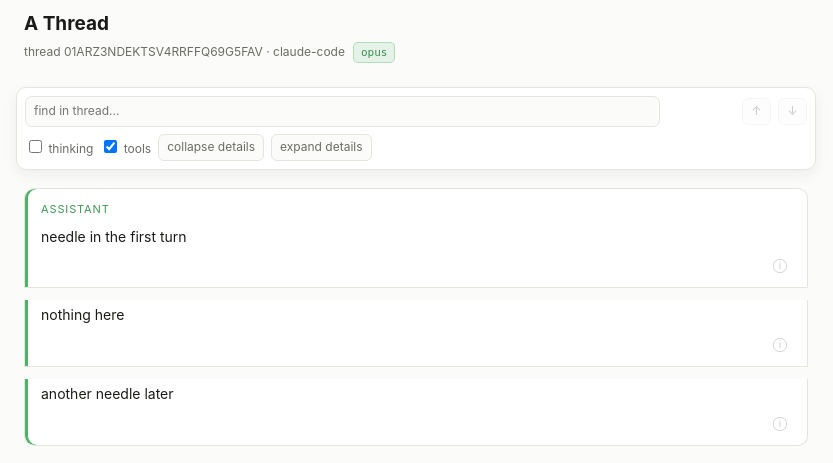
ThreadView › finds text within the open thread and moves between matching messages
In the search field labelled "find in thread": (342, 112) [25,96,660,127], type "needle"
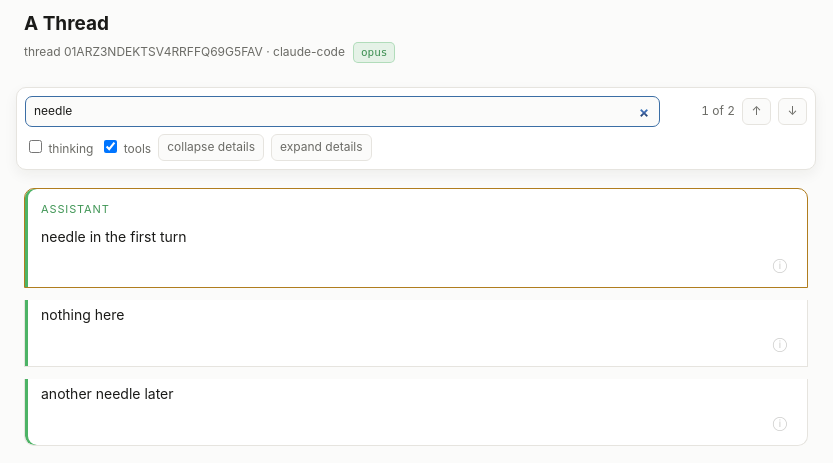
Now the text "1 of 2" is shown, box [701,104,735,118]
Click the button named "next in-thread match": (792, 112) [778,98,807,125]
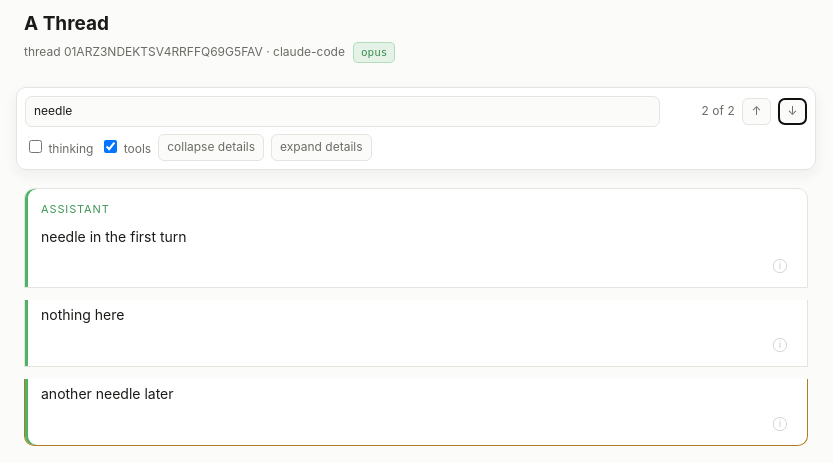
Now the text "2 of 2" is shown, box [701,104,735,118]
